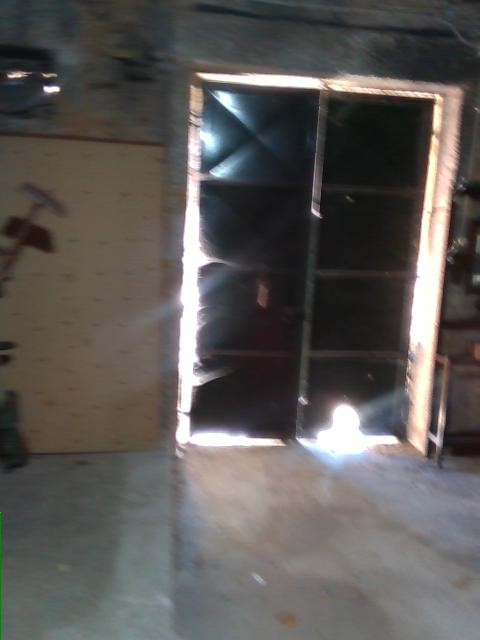door: (172, 70, 464, 465)
